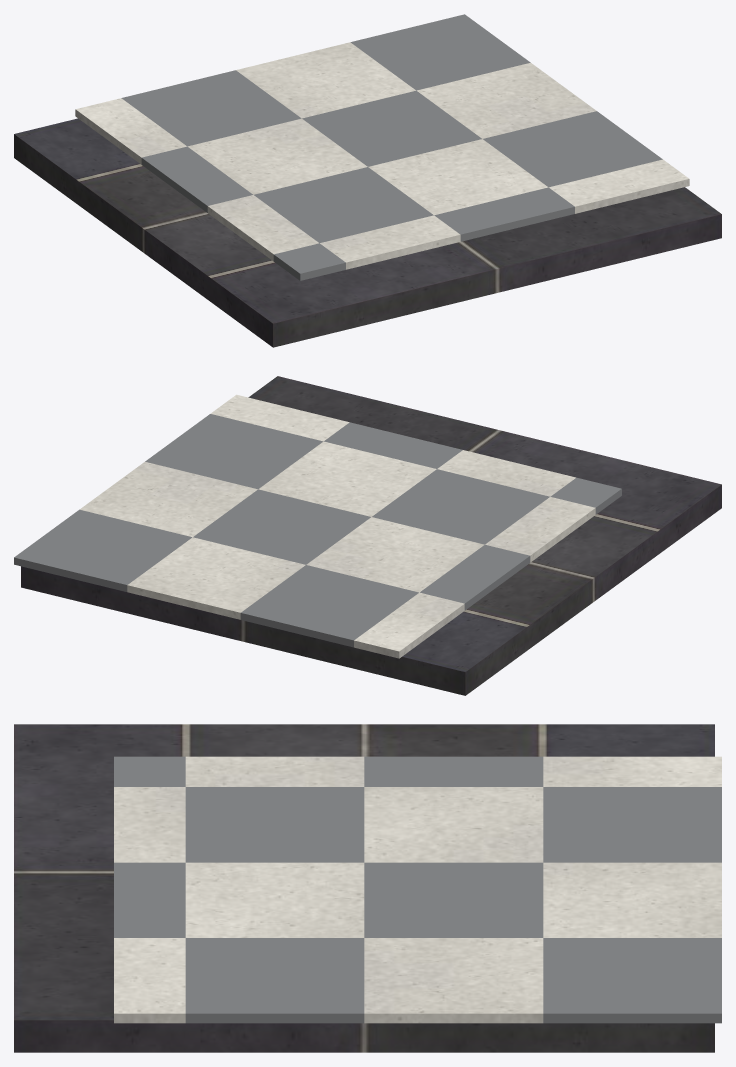
Rendered from floor_marble_g_e1001.glb.
The picture shows the model from 3 angles, top to bottom: view 1: azimuth 30°, elevation 25°; view 2: azimuth 150°, elevation 25°; view 3: azimuth 270°, elevation 25°; orthographic projection. The views are drawn at different scales.
Parts seen in each view (by area): view 1: floor_marble_g_e1001_plinth, floor_marble_g_e1001_slate, floor_marble_g_e1001_marble; view 2: floor_marble_g_e1001_slate, floor_marble_g_e1001_marble, floor_marble_g_e1001_plinth; view 3: floor_marble_g_e1001_slate, floor_marble_g_e1001_marble, floor_marble_g_e1001_plinth.
Part boxes in pixels (x1,y1,x2,y2): floor_marble_g_e1001_plinth: [14, 118, 721, 347]; floor_marble_g_e1001_slate: [121, 14, 662, 280]; floor_marble_g_e1001_marble: [75, 42, 689, 269]; floor_marble_g_e1001_slate: [14, 414, 621, 647]; floor_marble_g_e1001_marble: [80, 394, 595, 658]; floor_marble_g_e1001_plinth: [21, 376, 721, 695]; floor_marble_g_e1001_slate: [114, 756, 721, 1023]; floor_marble_g_e1001_marble: [114, 756, 721, 1023]; floor_marble_g_e1001_plinth: [14, 724, 714, 1052].
Size of the model in its own units: 1.98 by 0.13 by 1.98.
3 materials, 2 textured.
